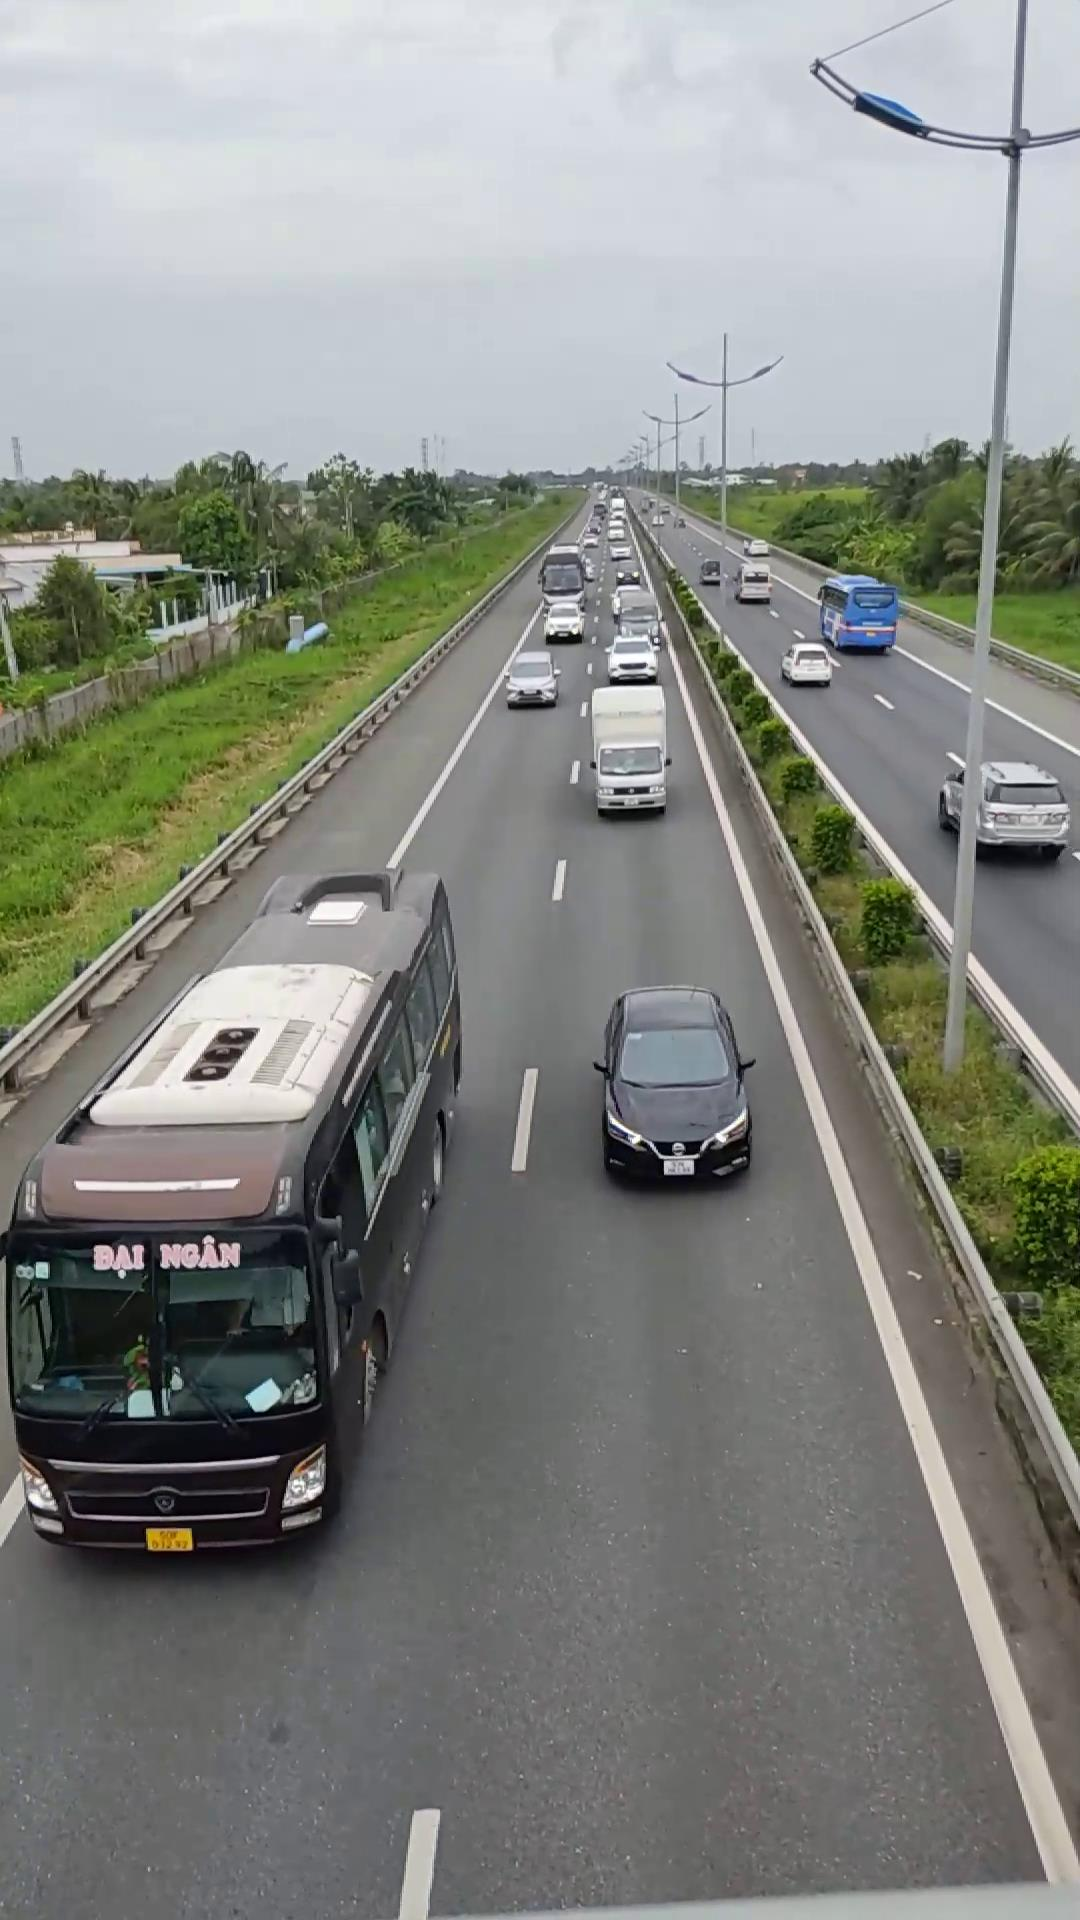bus: (0, 868, 466, 1550)
car: (592, 985, 755, 1186), (946, 756, 1074, 860)
truck: (580, 689, 673, 815)
